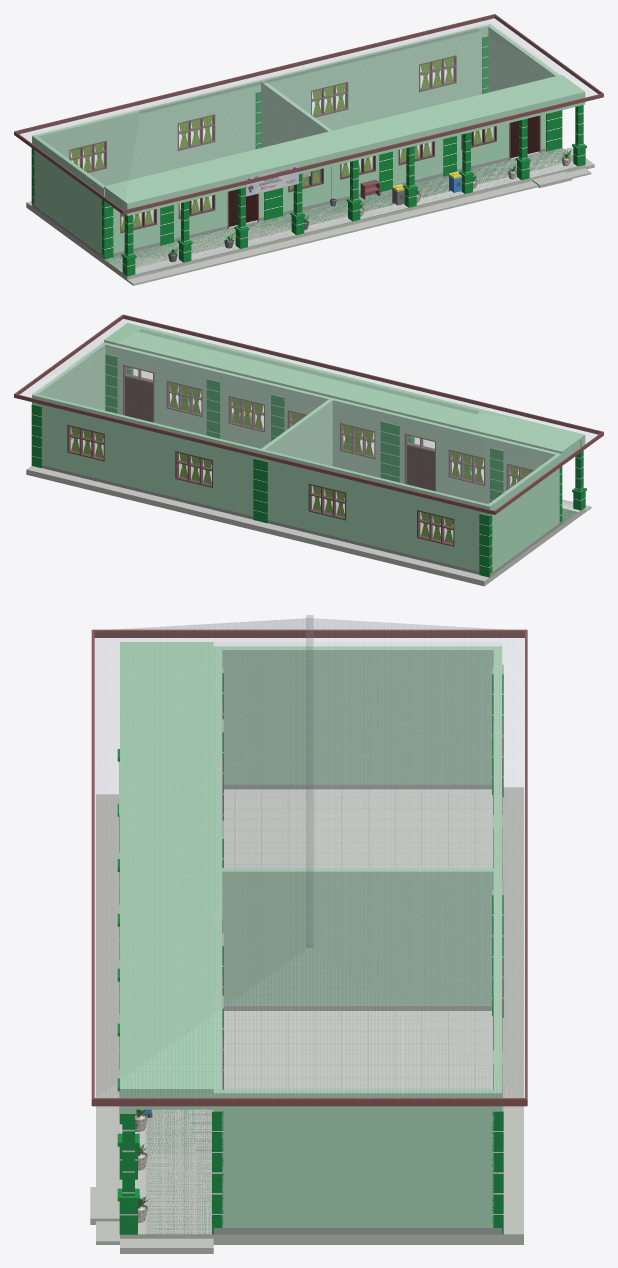
Rendered from lab_kc_cutaway.glb.
3 renders of one model, top to bottom at view 1: azimuth 30°, elevation 25°; view 2: azimuth 150°, elevation 25°; view 3: azimuth 270°, elevation 25°, orthographic. The views are drawn at different scales.
Parts seen in each view (by area): view 1: Dinding_Hijau_Mint, Atap_Genteng_Metal_Abu, Fondasi_Dan_Apron_Beton, Pilar_Dan_Tiang_Hijau_GarisPutih, Lantai_Teras_Keramik_HijauPutih, Lisplang_Marun_Dan_RakSepatu, Kusen_Coklat_Gelap, Gorden_Hijau_Ikat_Jendela, Kaca_Jendela_Transparan, Pintu_Panel_Kayu_Ganda, Plint_Dinding_Abu, Spanduk_LKS_Beauty_Therapy (+1 smaller); view 2: Dinding_Hijau_Mint, Atap_Genteng_Metal_Abu, Pilar_Dan_Tiang_Hijau_GarisPutih, Kusen_Coklat_Gelap, Lisplang_Marun_Dan_RakSepatu, Fondasi_Dan_Apron_Beton, Gorden_Hijau_Ikat_Jendela, Kaca_Jendela_Transparan, Pintu_Panel_Kayu_Ganda, Plint_Dinding_Abu, Lantai_2_Ruangan_LabKC; view 3: Atap_Genteng_Metal_Abu, Dinding_Hijau_Mint, Lantai_2_Ruangan_LabKC, Fondasi_Dan_Apron_Beton, Lisplang_Marun_Dan_RakSepatu, Pilar_Dan_Tiang_Hijau_GarisPutih, Lantai_Teras_Keramik_HijauPutih, Plint_Dinding_Abu.
Part boxes in pixels (left/top/right/bottom): Dinding_Hijau_Mint: left=32, top=24, right=585, bottom=253; Atap_Genteng_Metal_Abu: left=17, top=15, right=600, bottom=209; Fondasi_Dan_Apron_Beton: left=26, top=147, right=594, bottom=285; Pilar_Dan_Tiang_Hijau_GarisPutih: left=31, top=36, right=586, bottom=276; Lantai_Teras_Keramik_HijauPutih: left=104, top=148, right=576, bottom=275; Lisplang_Marun_Dan_RakSepatu: left=14, top=14, right=603, bottom=214; Kusen_Coklat_Gelap: left=69, top=55, right=540, bottom=233; Gorden_Hijau_Ikat_Jendela: left=71, top=57, right=492, bottom=229; Kaca_Jendela_Transparan: left=71, top=62, right=494, bottom=230; Pintu_Panel_Kayu_Ganda: left=229, top=116, right=538, bottom=226; Plint_Dinding_Abu: left=31, top=148, right=546, bottom=258; Spanduk_LKS_Beauty_Therapy: left=245, top=165, right=298, bottom=196; Dinding_Hijau_Mint: left=32, top=323, right=585, bottom=571; Atap_Genteng_Metal_Abu: left=17, top=316, right=600, bottom=509; Pilar_Dan_Tiang_Hijau_GarisPutih: left=31, top=354, right=586, bottom=577; Kusen_Coklat_Gelap: left=67, top=364, right=533, bottom=546; Lisplang_Marun_Dan_RakSepatu: left=14, top=314, right=603, bottom=514; Fondasi_Dan_Apron_Beton: left=26, top=401, right=591, bottom=586; Gorden_Hijau_Ikat_Jendela: left=71, top=382, right=532, bottom=543; Kaca_Jendela_Transparan: left=69, top=367, right=521, bottom=543; Pintu_Panel_Kayu_Ganda: left=125, top=377, right=434, bottom=490; Plint_Dinding_Abu: left=41, top=437, right=561, bottom=576; Lantai_2_Ruangan_LabKC: left=70, top=431, right=453, bottom=540; Atap_Genteng_Metal_Abu: left=95, top=615, right=524, bottom=1097; Dinding_Hijau_Mint: left=120, top=642, right=502, bottom=1227; Lantai_2_Ruangan_LabKC: left=224, top=789, right=493, bottom=1089; Fondasi_Dan_Apron_Beton: left=90, top=787, right=523, bottom=1253; Lisplang_Marun_Dan_RakSepatu: left=91, top=629, right=527, bottom=1106; Pilar_Dan_Tiang_Hijau_GarisPutih: left=117, top=664, right=503, bottom=1234; Lantai_Teras_Keramik_HijauPutih: left=120, top=1109, right=212, bottom=1235; Plint_Dinding_Abu: left=213, top=784, right=502, bottom=1234.
Size of the model in its own units: 23.12 by 5.55 by 9.1.
Materials: 25 (11 with a texture image).
